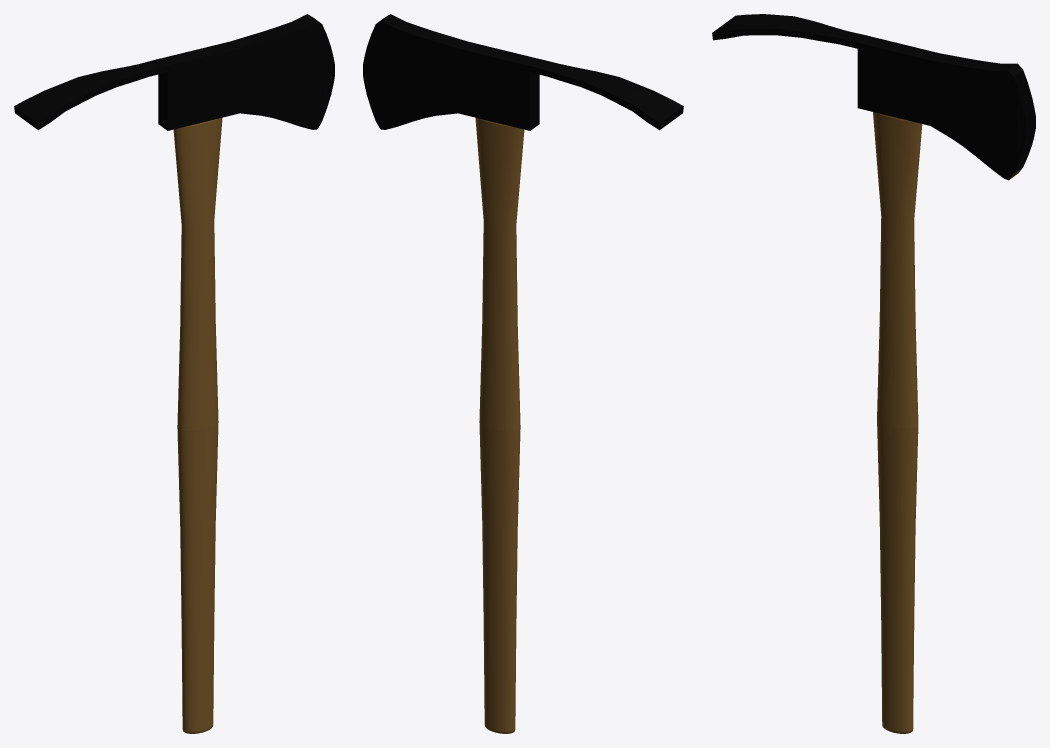
The model's file is Pulaski.fbx.
3 views of the same model, side by side, from view 1: azimuth 30°, elevation 25°; view 2: azimuth 150°, elevation 25°; view 3: azimuth 330°, elevation 25° (orthographic).
Parts seen in each view (by area): view 1: Cube; view 2: Cube; view 3: Cube.
Part boxes in pixels (box(x1,y1,x2,y2)): Cube: box(14, 14, 334, 733); Cube: box(363, 14, 683, 733); Cube: box(712, 14, 1035, 733).
Bounding box in the file's own units: 980 × 2109 × 130.
